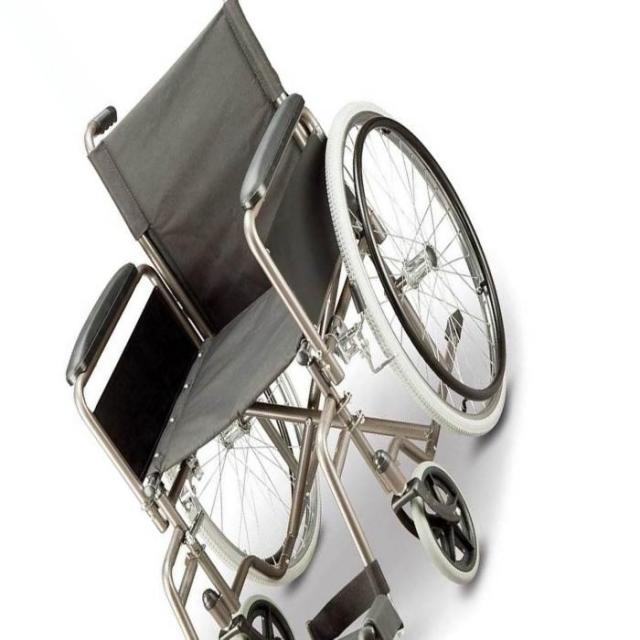wheelchair: (57, 0, 525, 640)
